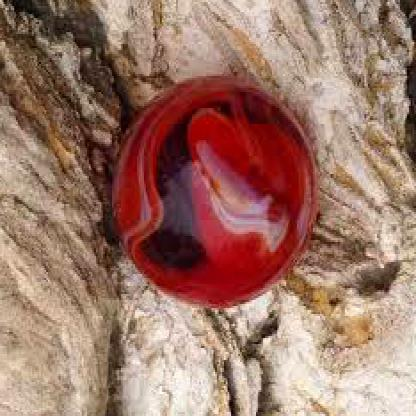Metamorphic_Marble: (103, 70, 320, 310)
